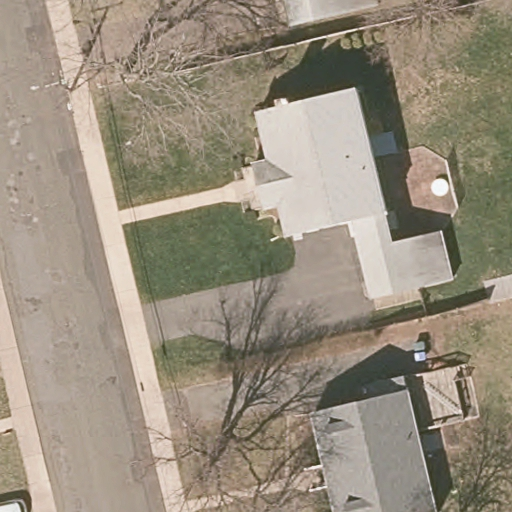DT: (28, 68, 91, 111)
